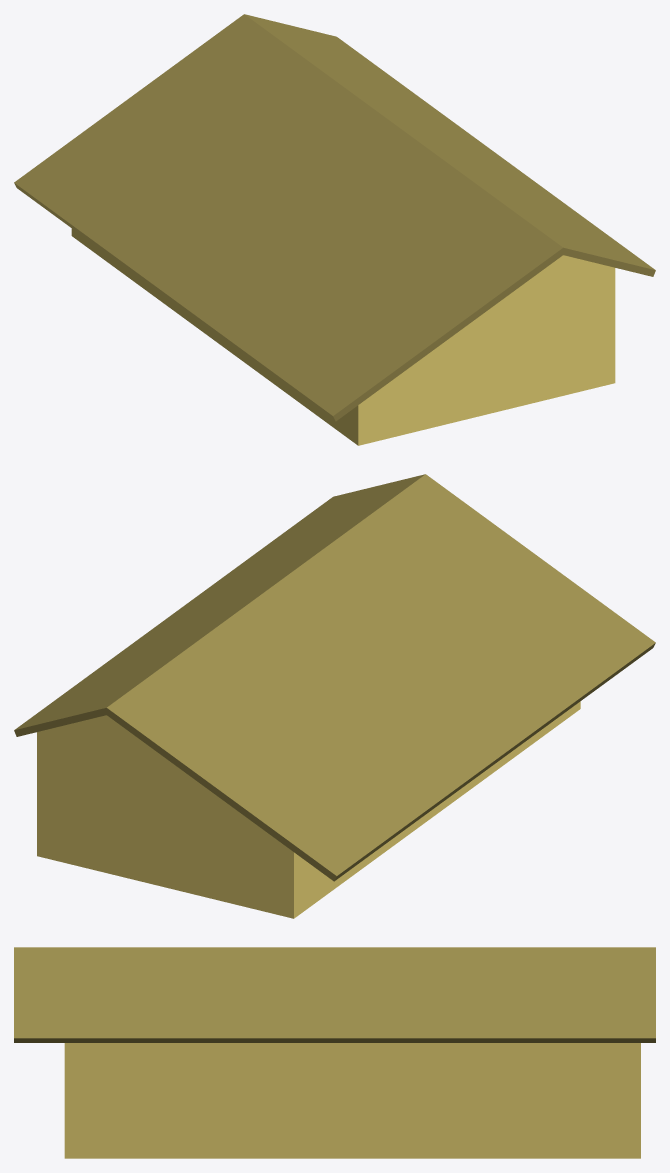
File: result.glb
3 views of the same model, one above another, from view 1: azimuth 30°, elevation 25°; view 2: azimuth 150°, elevation 25°; view 3: azimuth 270°, elevation 25° (orthographic).
Visible parts, largest first — view 1: e9d3c0e0-5614-403f-b965-0ef91687a32b__undefined (×2), d040e45c-36dd-45a8-bd92-3bb3b4bc2db9__undefined; view 2: e9d3c0e0-5614-403f-b965-0ef91687a32b__undefined (×2), d040e45c-36dd-45a8-bd92-3bb3b4bc2db9__undefined; view 3: d040e45c-36dd-45a8-bd92-3bb3b4bc2db9__undefined, e9d3c0e0-5614-403f-b965-0ef91687a32b__undefined.
Part boxes in pixels (<box>): e9d3c0e0-5614-403f-b965-0ef91687a32b__undefined (×2): <box>14,14,655,421</box>; d040e45c-36dd-45a8-bd92-3bb3b4bc2db9__undefined: <box>71,228,615,445</box>; e9d3c0e0-5614-403f-b965-0ef91687a32b__undefined (×2): <box>14,474,655,881</box>; d040e45c-36dd-45a8-bd92-3bb3b4bc2db9__undefined: <box>37,701,580,918</box>; d040e45c-36dd-45a8-bd92-3bb3b4bc2db9__undefined: <box>64,1043,640,1158</box>; e9d3c0e0-5614-403f-b965-0ef91687a32b__undefined: <box>14,947,655,1042</box>.
Bounding box in the file's own units: 1254 × 641 × 2147.
